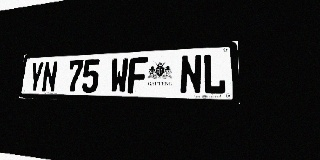5: (82, 59, 100, 93)
7: (66, 60, 84, 93)
F: (128, 57, 148, 94)
L: (203, 53, 226, 95)
N: (180, 54, 202, 94), (41, 61, 58, 92)
W: (109, 58, 129, 93)
Y: (28, 62, 44, 92)
